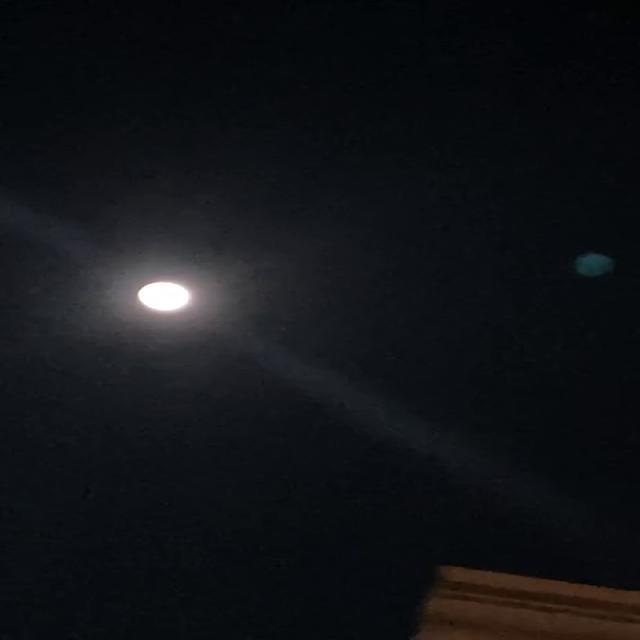moon: (122, 273, 213, 319)
